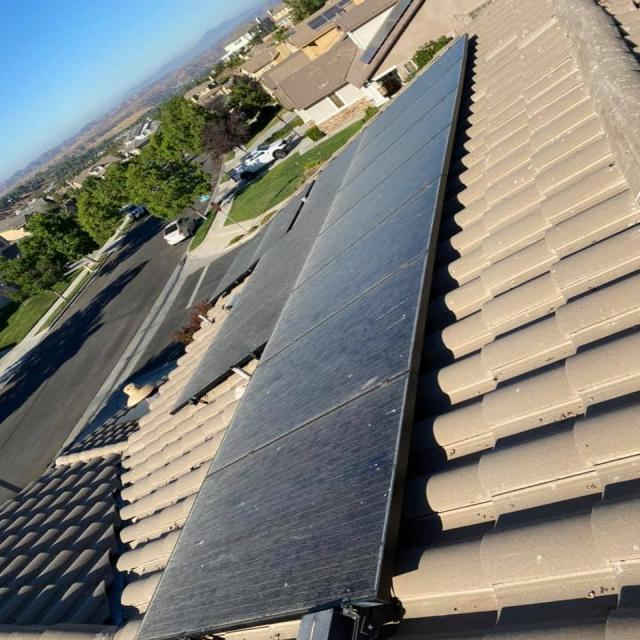dust-solar-panel: (125, 85, 462, 640)
